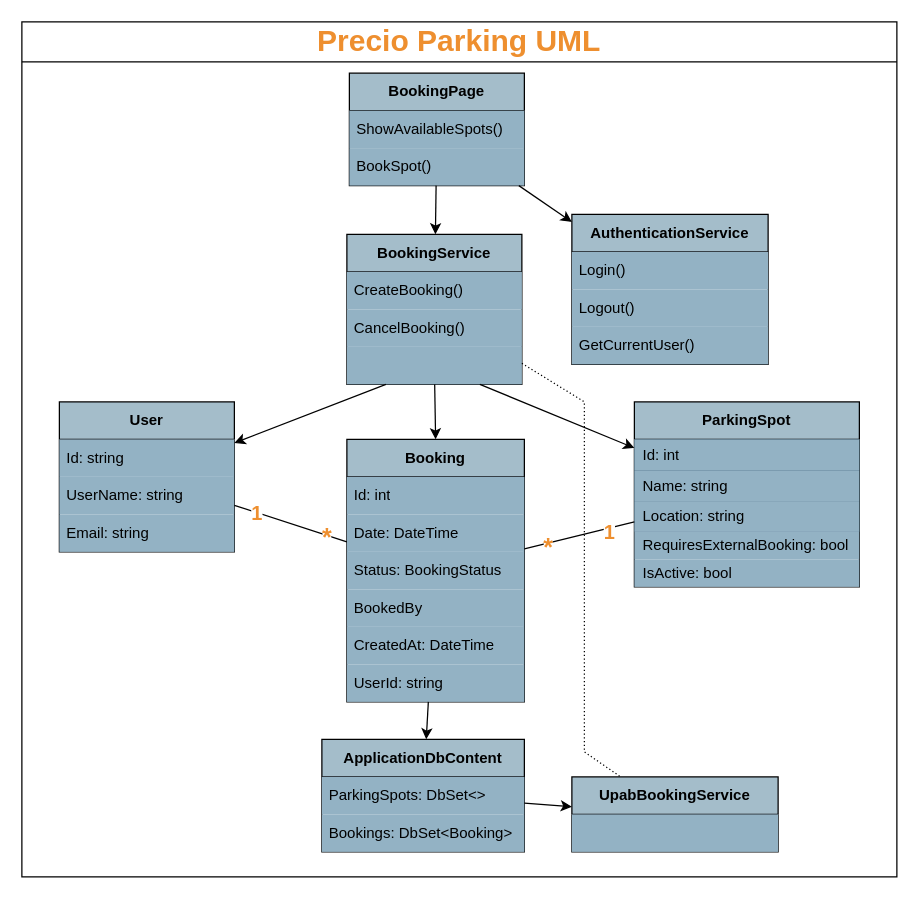
Image size: 919x899. Some labels were removed from this diagram. Each missing label, with the centre of its shape:
BookParkingAsync(): (674,832)
IsAvailable(): (433,365)
